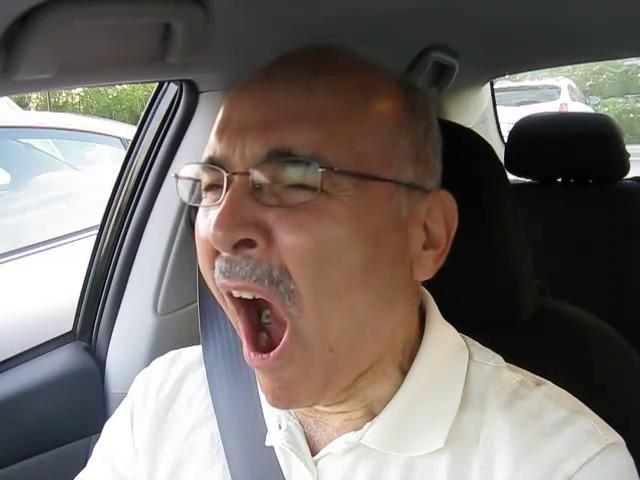close_eyeL: (174, 163, 242, 210)
close_eyeR: (257, 165, 339, 213)
yawn: (202, 278, 314, 374)
